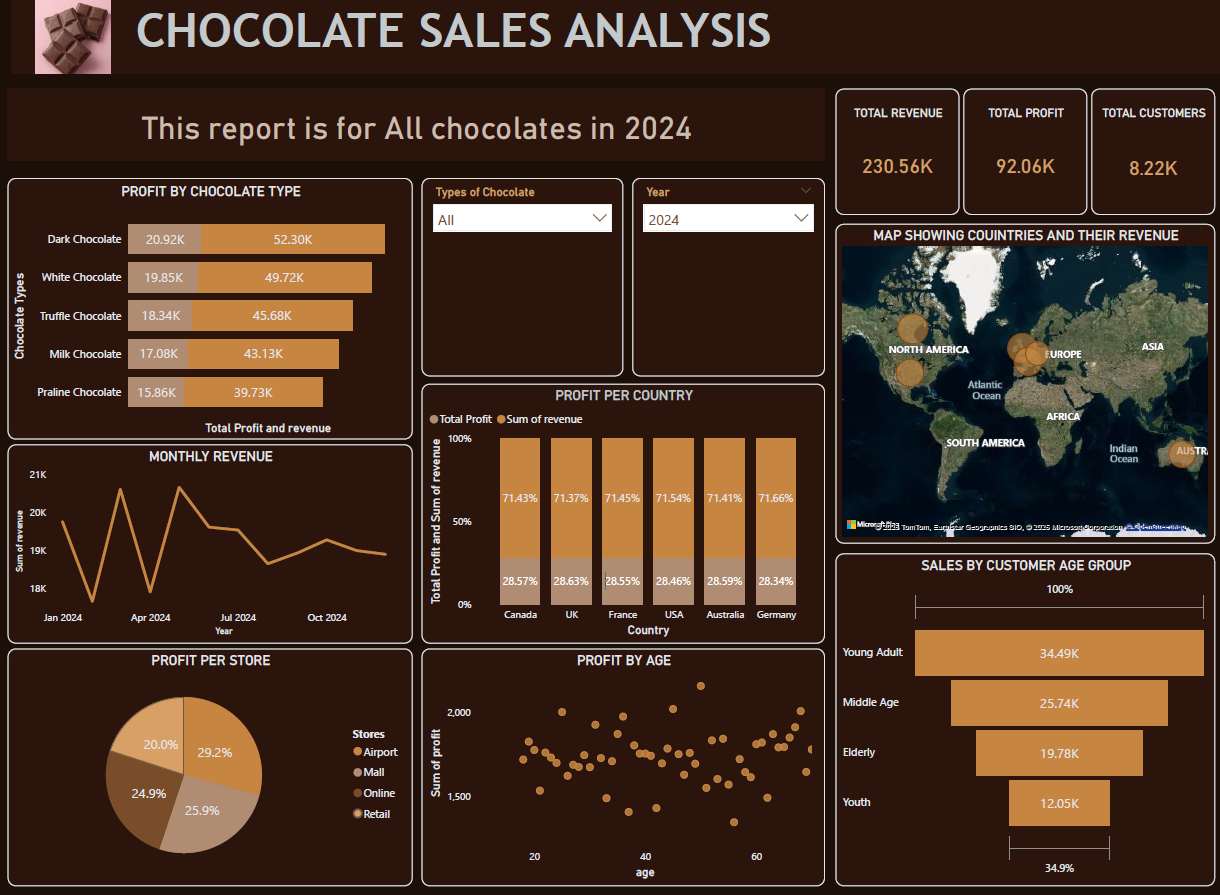

The dashboard page shown, as its layout file describes it:
{"tool":"powerbi","page":{"name":"Page 1","canvas":[1500,1100],"ordinal":0},"visuals":[{"type":"barChart","title":"PROFIT BY CHOCOLATE TYPE","fields":{"Category":["worksheet.chocolate_types"],"Y":["Sum(worksheet.profit)","Sum(worksheet.revenue)"]},"box":[11.3,220.3,493.7,318.4],"z":0},{"type":"card","title":"TOTAL CUSTOMERS","fields":{"Values":["Count(worksheet.customer_id)"]},"box":[1333.1,111,151.2,154.4],"z":1000},{"type":"card","title":"TOTAL PROFIT","fields":{"Values":["Sum(worksheet.profit)"]},"box":[1177.1,111,151.2,154.4],"z":2000},{"type":"lineChart","title":"MONTHLY REVENUE","fields":{"Y":["Sum(worksheet.revenue)"],"Category":["worksheet.order_date.Variation.Date Hierarchy.Year","worksheet.order_date.Variation.Date Hierarchy.Quarter","worksheet.order_date.Variation.Date Hierarchy.Month"]},"box":[11.3,545.1,493.7,242.8],"z":3000},{"type":"hundredPercentStackedColumnChart","title":"PROFIT PER COUNTRY","fields":{"Y":["Sum(worksheet.profit)","Sum(worksheet.revenue)"],"Category":["worksheet.country"]},"box":[516.2,471.2,492.1,316.8],"z":4000},{"type":"map","title":"MAP SHOWING COUINTRIES AND THEIR REVENUE","fields":{"Category":["worksheet.country"],"Size":["Sum(worksheet.revenue)"]},"box":[1020.6,275.9,463.3,390],"z":5000},{"type":"scatterChart","title":"PROFIT BY AGE","fields":{"X":["worksheet.age"],"Y":["Sum(worksheet.profit)"]},"box":[516.2,794.4,492.1,289.5],"z":6000},{"type":"funnel","title":"SALES BY CUSTOMER AGE GROUP","fields":{"Category":["worksheet.age_group"],"Y":["Sum(worksheet.profit)"]},"box":[1020.6,677.6,463.3,406.7],"z":7000},{"type":"pieChart","title":"PROFIT PER STORE","fields":{"Y":["Sum(worksheet.profit)"],"Category":["worksheet.store_type"]},"box":[11.3,794.4,493.7,289.5],"z":8000},{"type":"slicer","title":"REVENUE AND PROFIT BY CHOCOLATE TYPE","fields":{"Values":["worksheet.chocolate_types"]},"box":[516.2,220.3,246,241.2],"z":9000},{"type":"textbox","box":[16.1,0,1474.6,93.3],"z":10000},{"type":"card","title":"TOTAL REVENUE","fields":{"Values":["Sum(worksheet.revenue)"]},"box":[1021.1,111,151.2,154.4],"z":11000},{"type":"slicer","title":"REVENUE AND PROFIT BY CHOCOLATE TYPE","fields":{"Values":["worksheet.order_date.Variation.Date Hierarchy.Year"]},"box":[773.5,220.3,234.8,241.2],"z":12000},{"type":"card","fields":{"Values":["worksheet.InteractiveTitle"]},"box":[11.3,111,997,88.4],"z":13000},{"type":"image","box":[16.1,1.6,147.9,91.7],"z":14000}]}

Visuals, with their boxes in screenshot pixels (x1, y1, x2, y2), scaled from the page's 1500x1100 canvas onto the 1220x895 screenshot:
"PROFIT BY CHOCOLATE TYPE" barChart: 9,179,411,438
"TOTAL CUSTOMERS" card: 1084,90,1207,216
"TOTAL PROFIT" card: 957,90,1080,216
"MONTHLY REVENUE" lineChart: 9,444,411,641
"PROFIT PER COUNTRY" hundredPercentStackedColumnChart: 420,383,820,641
"MAP SHOWING COUINTRIES AND THEIR REVENUE" map: 830,224,1207,542
"PROFIT BY AGE" scatterChart: 420,646,820,882
"SALES BY CUSTOMER AGE GROUP" funnel: 830,551,1207,882
"PROFIT PER STORE" pieChart: 9,646,411,882
"REVENUE AND PROFIT BY CHOCOLATE TYPE" slicer: 420,179,620,375
textbox: 13,0,1212,76
"TOTAL REVENUE" card: 830,90,953,216
"REVENUE AND PROFIT BY CHOCOLATE TYPE" slicer: 629,179,820,375
card - worksheet.InteractiveTitle: 9,90,820,162
image: 13,1,133,76
